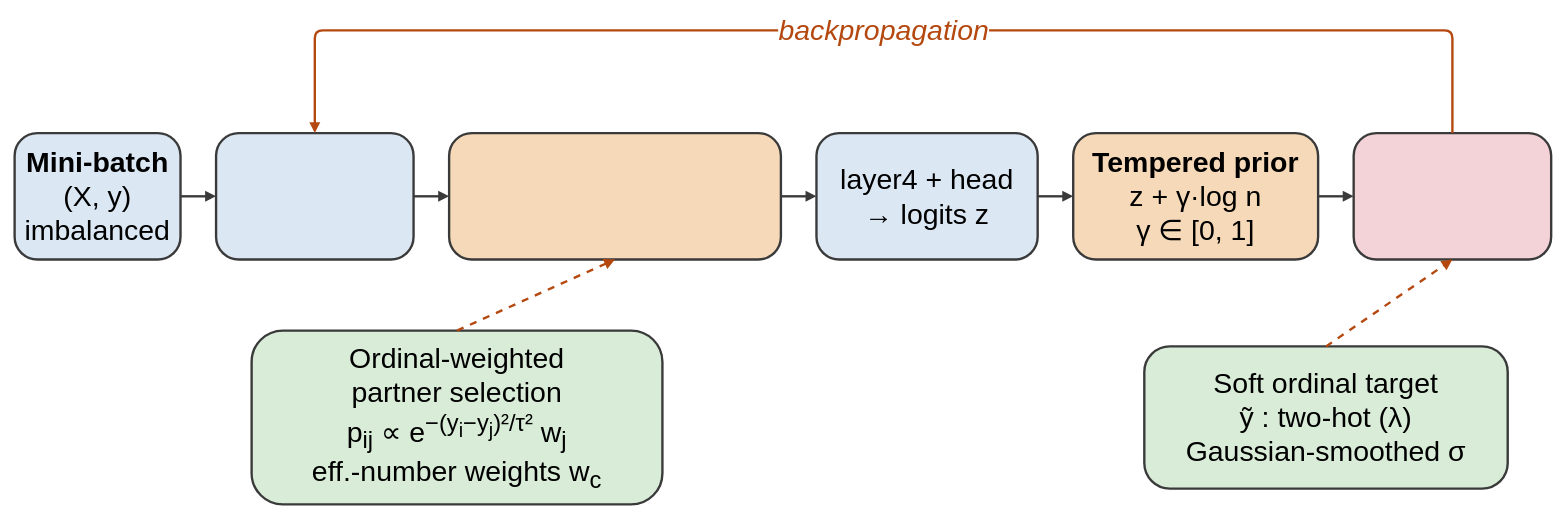
This 1566x519 diagram has some shape labels left out. Each missing label, with the box of its shape:
Backbone f θ → layer3 → h i , h j: (214, 132, 414, 260)
Loss L = CE(·, ỹ): (1352, 132, 1552, 260)
Manifold mix h = λ·h i + (1−λ)·h j λ ~ Beta(α, α): (448, 132, 782, 260)
